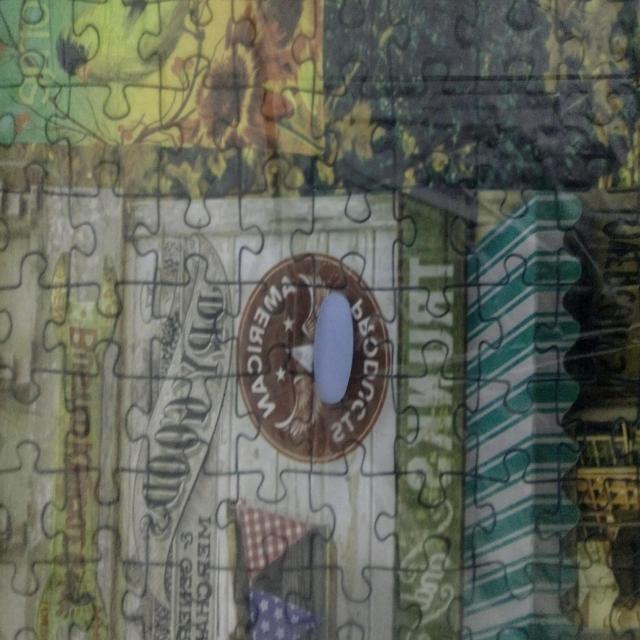pill: (313, 296, 353, 406)
